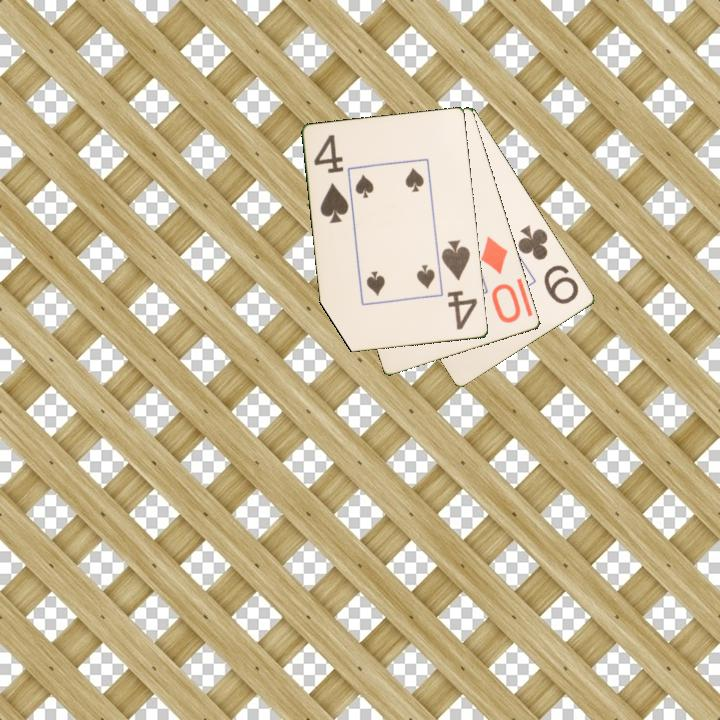10d: (477, 232, 524, 326)
4s: (438, 236, 480, 333), (310, 131, 352, 226)
9c: (514, 221, 582, 307)
